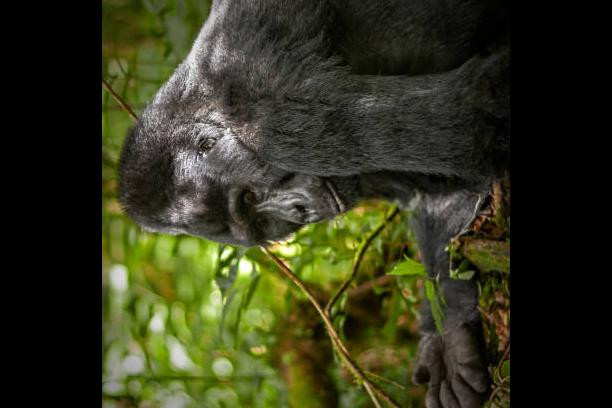goriile_montagne: (114, 0, 510, 271)
